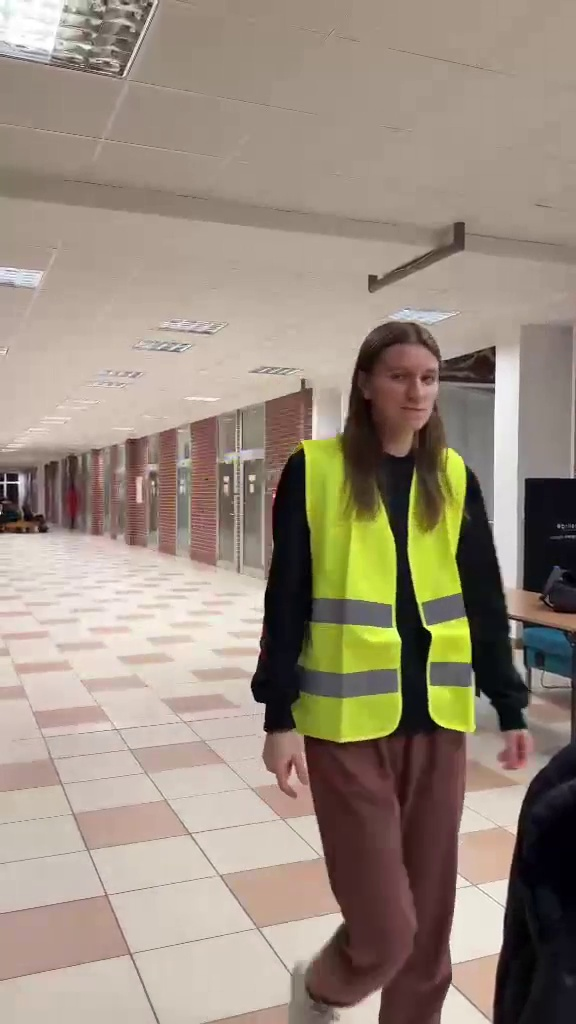vest: (255, 318, 531, 997)
